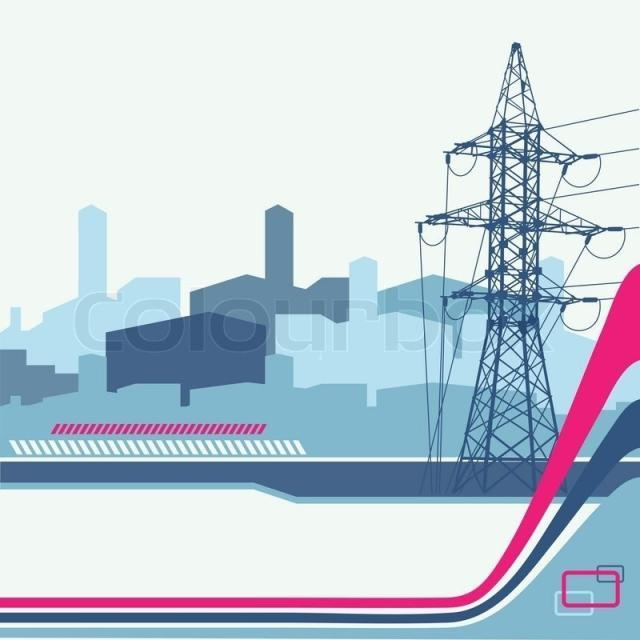non-critical vegetation: (412, 32, 602, 498)
